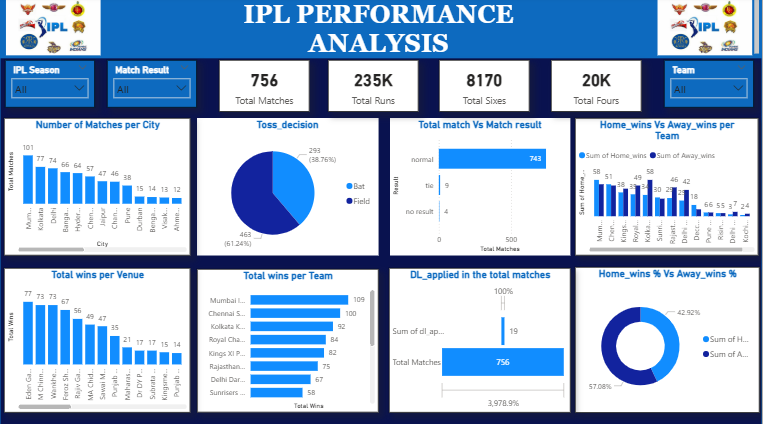

This screenshot's page, from the dashboard's own definition file:
{"tool":"powerbi","page":{"name":"Page 1","canvas":[1280,720],"ordinal":0},"visuals":[{"type":"shape","box":[0,0,1280,720.4],"z":0},{"type":"textbox","box":[0,0,1280,102.7],"z":1000},{"type":"image","box":[0,0,179.7,102.7],"z":2000},{"type":"card","fields":{"Values":["matches.Total Matches"]},"box":[367.9,106.1,152.3,87.3],"z":3000},{"type":"pieChart","title":"Toss_decision ","fields":{"Y":["matches.Bat_toss_decision","matches.Field_toss_decision"]},"box":[330.3,203.6,304.6,231],"z":4000},{"type":"slicer","fields":{"Values":["matches.Season"]},"box":[8.6,106.1,150.6,80.4],"z":5000},{"type":"clusteredColumnChart","title":"Number of Matches per City","fields":{"Y":["matches.Total Matches"],"Category":["matches.City"]},"box":[6.8,203.6,313.2,231],"z":6000},{"type":"clusteredColumnChart","title":"Home_wins Vs Away_wins per Team","fields":{"Y":["teamwise_home_and_away.Home_wins","teamwise_home_and_away.Away_wins"],"Category":["teamwise_home_and_away.Team"]},"box":[965.1,203.6,308,231],"z":7000},{"type":"donutChart","title":"Home_wins % Vs Away_wins %","fields":{"Y":["teamwise_home_and_away.Home_win_percentage","teamwise_home_and_away.Away_win_percentage"]},"box":[965.1,453.5,309.7,244.7],"z":8000},{"type":"clusteredBarChart","title":"Total wins  per Team","fields":{"Category":["matches.Winner"],"Y":["matches.Total Wins"]},"box":[330.3,456.9,304.6,241.3],"z":9000},{"type":"clusteredColumnChart","title":"Total wins  per Venue","fields":{"Y":["matches.Total Wins"],"Category":["matches.Venue"]},"box":[6.8,455.2,313.2,243],"z":10000},{"type":"clusteredBarChart","title":"Total match Vs Match result ","fields":{"Y":["matches.Total Matches"],"Category":["matches.Result"]},"box":[655.4,203.6,302.9,231],"z":11000},{"type":"funnel","title":"DL_applied in the total matches","fields":{"Y":["matches.dl_applied","matches.Total Matches"]},"box":[653.7,455.2,304.6,243],"z":12000},{"type":"card","fields":{"Values":["deliveries.Total Runs"]},"box":[551,106.1,152.3,87.3],"z":13000},{"type":"card","fields":{"Values":["deliveries.Total Sixes"]},"box":[737.5,106.1,152.3,87.3],"z":14000},{"type":"card","fields":{"Values":["deliveries.Total Fours"]},"box":[925.8,106.1,152.3,87.3],"z":15000},{"type":"slicer","fields":{"Values":["matches.Result"]},"box":[179.7,106.1,150.6,80.4],"z":16000},{"type":"slicer","fields":{"Values":["teamwise_home_and_away.Team"]},"box":[1115.7,106.1,150.6,80.4],"z":17000},{"type":"image","box":[1088.3,0,191.7,102.7],"z":18000}]}

Visuals, with their boxes in screenshot pixels (x1, y1, x2, y2), scaled from the page's 1280x720 canvas onto the 763x424 screenshot:
shape: [left=0, top=0, right=762, bottom=423]
textbox: [left=0, top=0, right=762, bottom=60]
image: [left=0, top=0, right=107, bottom=60]
card - matches.Total Matches: [left=219, top=62, right=310, bottom=114]
"Toss_decision " pieChart: [left=197, top=120, right=378, bottom=256]
slicer - matches.Season: [left=5, top=62, right=95, bottom=110]
"Number of Matches per City" clusteredColumnChart: [left=4, top=120, right=191, bottom=256]
"Home_wins Vs Away_wins per Team" clusteredColumnChart: [left=575, top=120, right=759, bottom=256]
"Home_wins % Vs Away_wins %" donutChart: [left=575, top=267, right=760, bottom=411]
"Total wins  per Team" clusteredBarChart: [left=197, top=269, right=378, bottom=411]
"Total wins  per Venue" clusteredColumnChart: [left=4, top=268, right=191, bottom=411]
"Total match Vs Match result " clusteredBarChart: [left=391, top=120, right=571, bottom=256]
"DL_applied in the total matches" funnel: [left=390, top=268, right=571, bottom=411]
card - deliveries.Total Runs: [left=328, top=62, right=419, bottom=114]
card - deliveries.Total Sixes: [left=440, top=62, right=530, bottom=114]
card - deliveries.Total Fours: [left=552, top=62, right=643, bottom=114]
slicer - matches.Result: [left=107, top=62, right=197, bottom=110]
slicer - teamwise_home_and_away.Team: [left=665, top=62, right=755, bottom=110]
image: [left=649, top=0, right=762, bottom=60]
